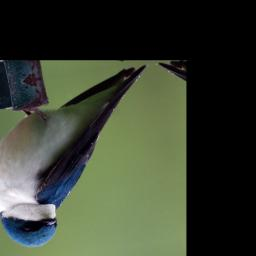Swallow: (0, 62, 179, 255)
